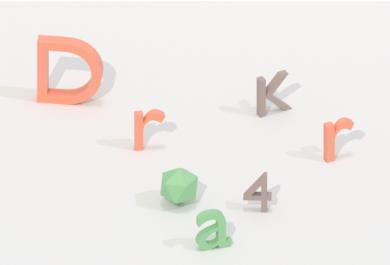0-TronCanh: (158, 164, 202, 208)
4: (238, 168, 276, 216)
D: (34, 30, 106, 108)
K: (253, 66, 295, 122)
a: (192, 206, 234, 256)
r: (319, 115, 357, 166), (131, 105, 168, 157)
